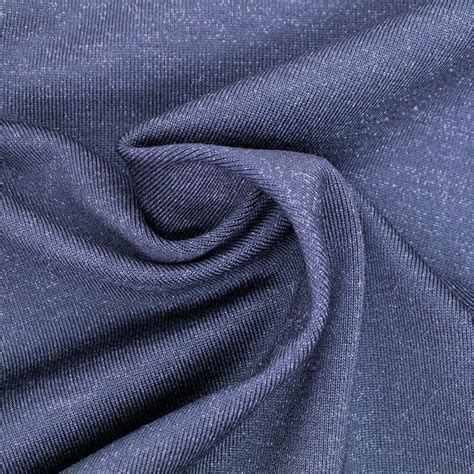nylon: (1, 1, 474, 474)
